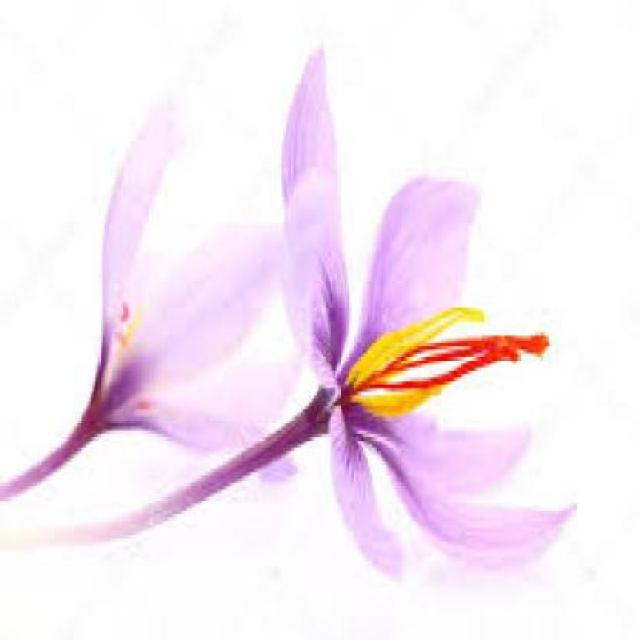saffron open: (135, 51, 570, 572)
